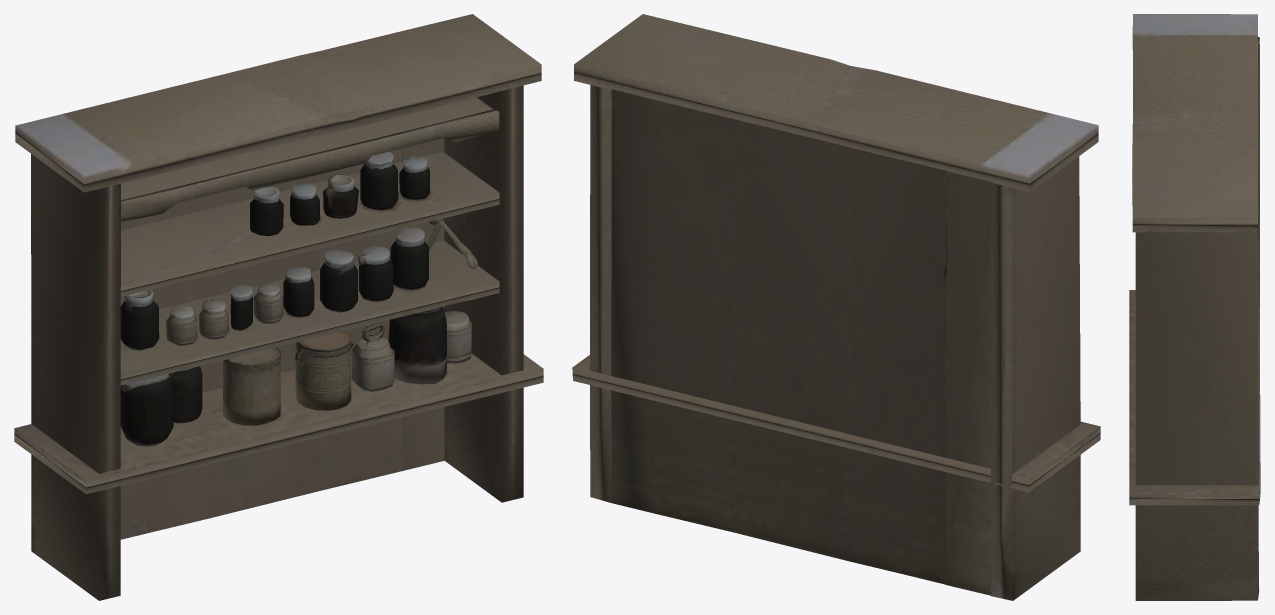
Rendered from basement_shelf.glb.
3 views of the same model, side by side, from view 1: azimuth 30°, elevation 25°; view 2: azimuth 150°, elevation 25°; view 3: azimuth 270°, elevation 25° (orthographic). The views are drawn at different scales.
Bounding box in the file's own units: 0.9575 × 0.8628 × 0.2617.
1 material, 1 textured.
